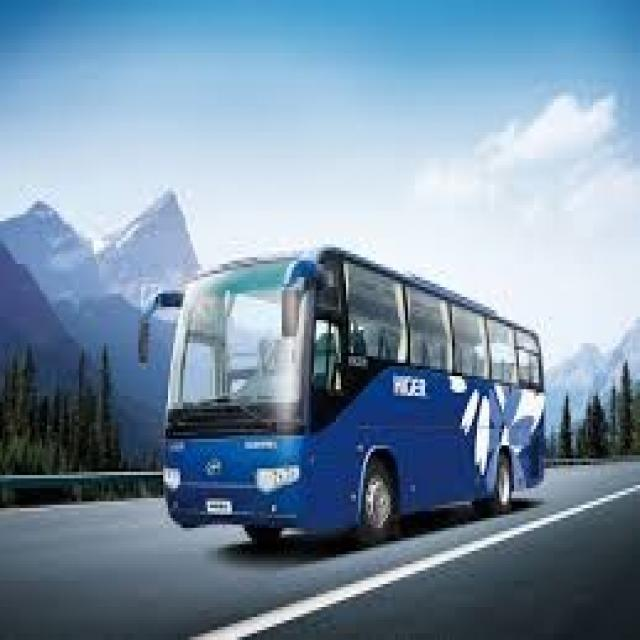bus: (132, 240, 574, 545)
